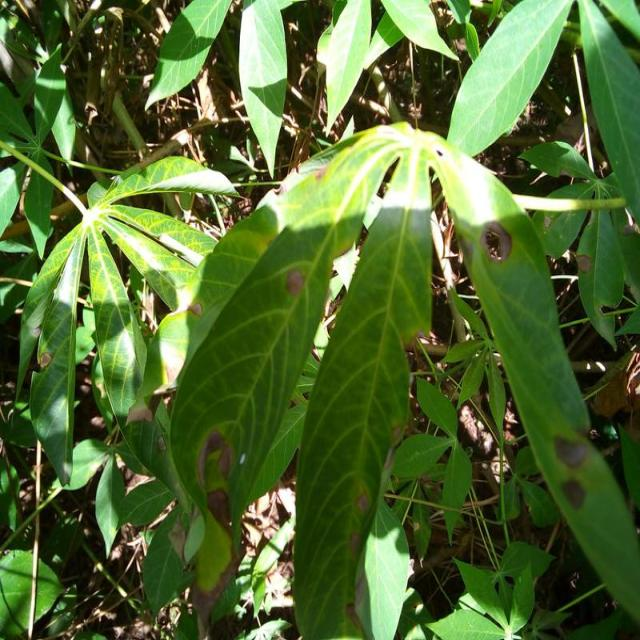cassava leaf: (166, 119, 632, 637), (445, 0, 573, 158)
